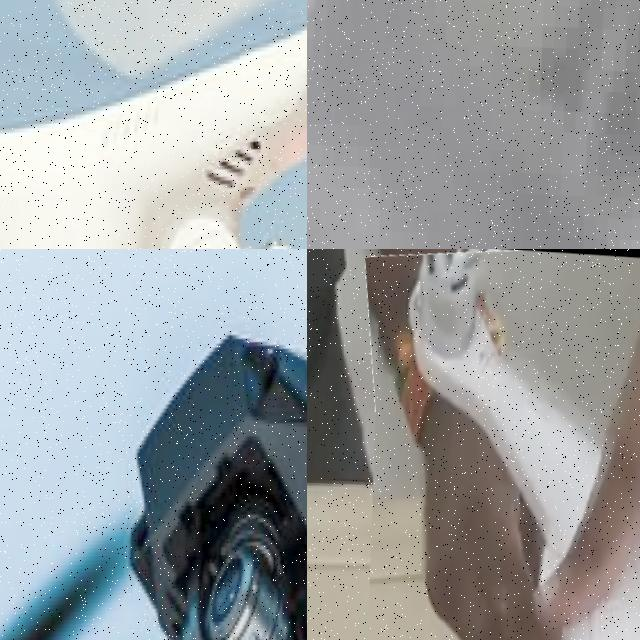drone: (0, 249, 307, 640), (359, 249, 640, 640), (0, 0, 307, 249)
